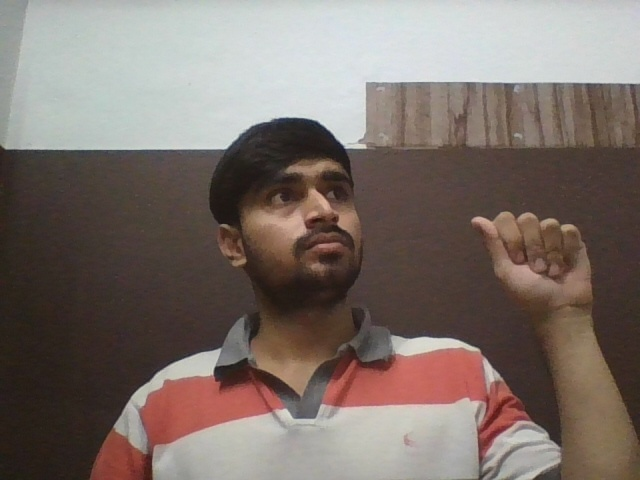A: (470, 210, 594, 313)
